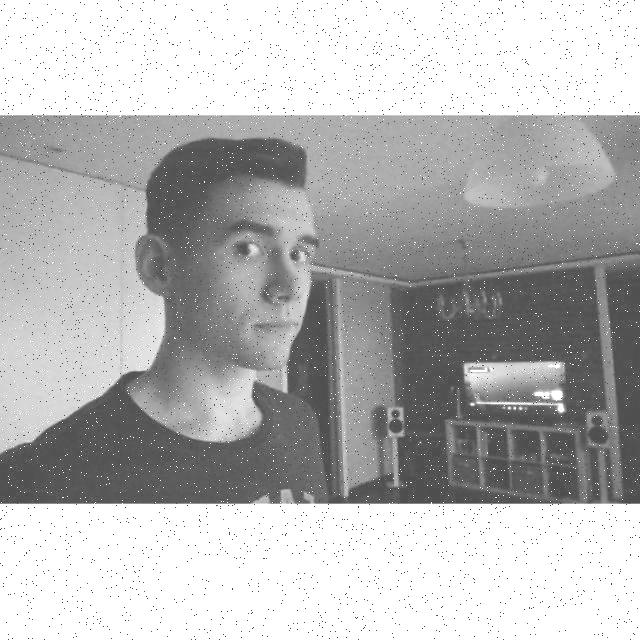real: (182, 181, 322, 372)
